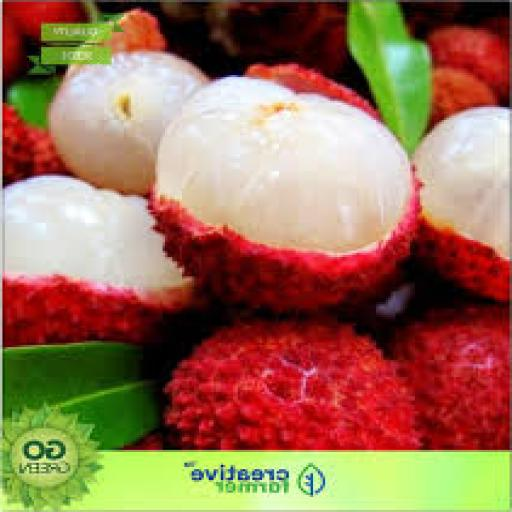lychee: (150, 78, 416, 310), (165, 320, 418, 449), (2, 176, 190, 344), (48, 52, 205, 194), (412, 108, 508, 299), (393, 305, 508, 449), (245, 65, 377, 117), (427, 26, 508, 100), (2, 103, 66, 184), (429, 67, 496, 126), (2, 3, 83, 40), (2, 13, 23, 83)
